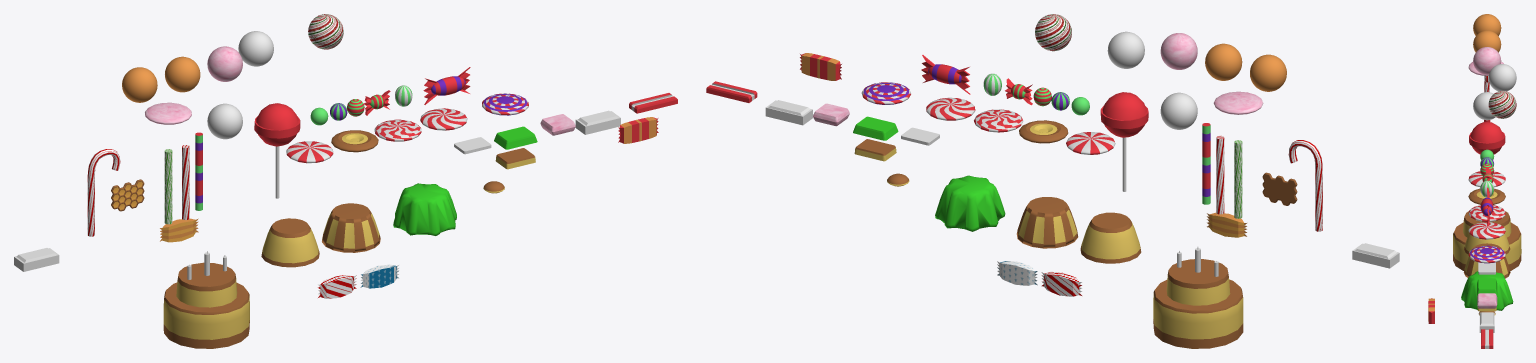
Rendered from candy.fbx.
The picture shows the model from 3 angles, left to right: view 1: azimuth 30°, elevation 25°; view 2: azimuth 150°, elevation 25°; view 3: azimuth 270°, elevation 25°; orthographic projection. The views are drawn at different scales.
Parts seen in each view (by area): view 1: Cylinder.007, Cylinder.011, Cylinder.006, Cylinder.005, Sphere, Sphere.017, Sphere.011, Sphere.013, Sphere.014, Sphere.016, Sphere.012, Cylinder.004 (+21 smaller); view 2: Cylinder.007, Cylinder.011, Cylinder.006, Cylinder.005, Sphere, Sphere.011, Sphere.016, Sphere.012, Sphere.013, Sphere.017, Sphere.014, Cylinder.004 (+21 smaller); view 3: Cylinder.007, Cylinder.011, Sphere, Sphere.013, Sphere.012, Sphere.014, Sphere.006, Sphere.005, Cylinder.005, Cylinder.006, Sphere.017, Sphere.016 (+18 smaller).
Part boxes in pixels (x1,y1,x2,y2): Cylinder.007: (163,262,249,348); Cylinder.011: (393,183,456,235); Cylinder.006: (322,203,380,252); Cylinder.005: (261,218,319,267); Sphere: (254,103,300,146); Sphere.017: (122,67,157,102); Sphere.011: (207,103,242,139); Sphere.013: (308,14,343,49); Sphere.014: (207,46,242,81); Sphere.016: (165,56,200,92); Sphere.012: (238,31,273,66); Cylinder.004: (87,149,120,236); Cylinder.007: (1153,259,1243,348); Cylinder.011: (935,175,1005,231); Cylinder.006: (1016,197,1078,248); Cylinder.005: (1080,212,1141,263); Sphere: (1100,92,1148,137); Sphere.011: (1160,92,1197,129); Sphere.016: (1205,43,1242,80); Sphere.012: (1107,31,1144,68); Sphere.013: (1035,14,1071,51); Sphere.017: (1250,54,1286,91); Sphere.014: (1160,33,1197,69); Cylinder.004: (1288,140,1322,231); Cylinder.007: (1453,211,1521,270); Cylinder.011: (1461,271,1513,310); Sphere: (1469,122,1505,154); Sphere.013: (1488,90,1516,118); Sphere.012: (1488,64,1516,91); Sphere.014: (1473,47,1501,74); Sphere.006: (1468,245,1505,263); Sphere.005: (1468,222,1505,239); Cylinder.005: (1464,221,1510,254); Cylinder.006: (1463,243,1510,278); Sphere.017: (1473,14,1501,35); Sphere.016: (1473,30,1501,52).
Bounding box in the file's own units: 9523 × 3865 × 1484.
Materials: 20 (6 with a texture image).
